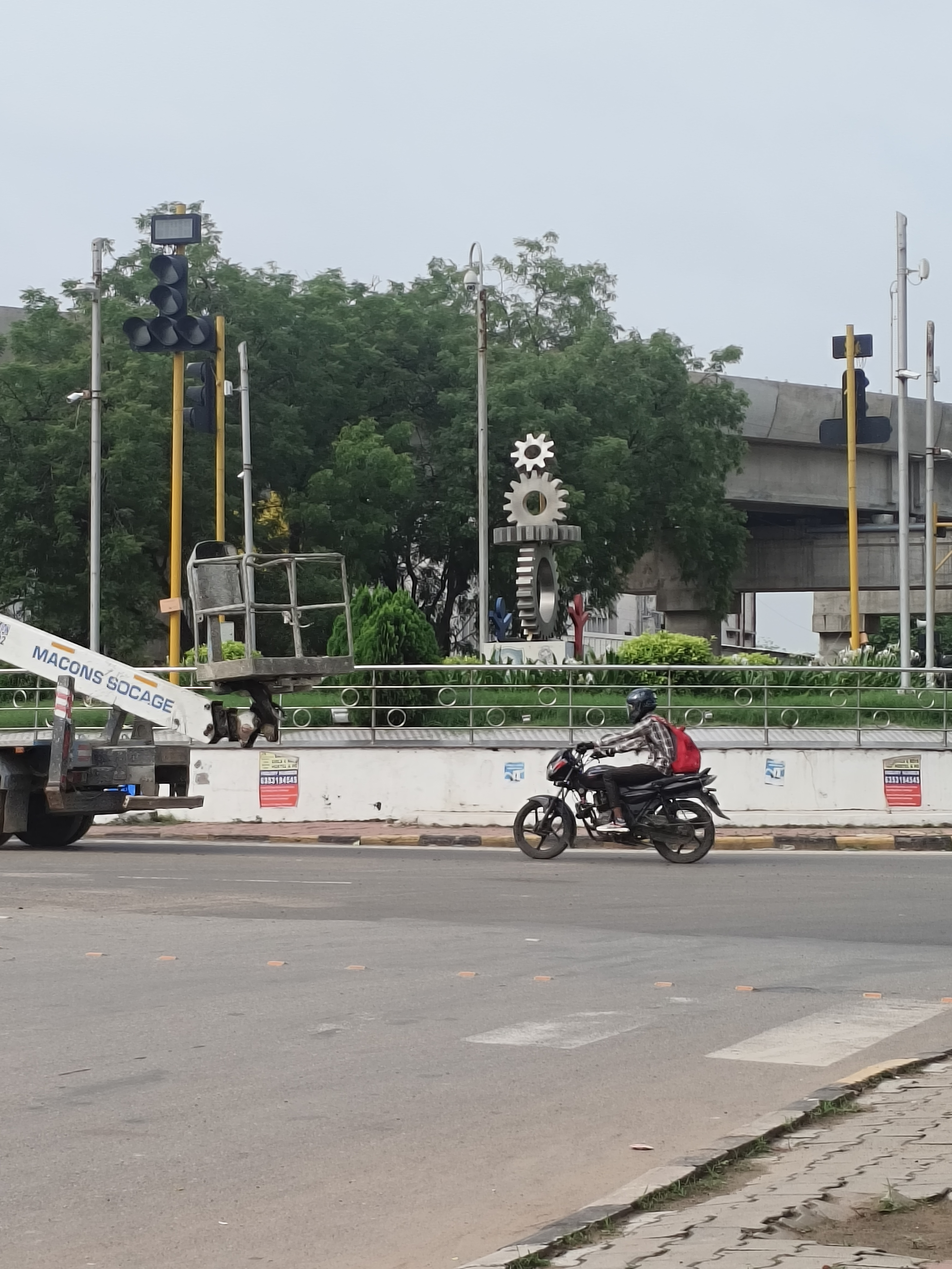BikeWithRider: (504, 680, 737, 870)
Helmet: (619, 683, 663, 725)
